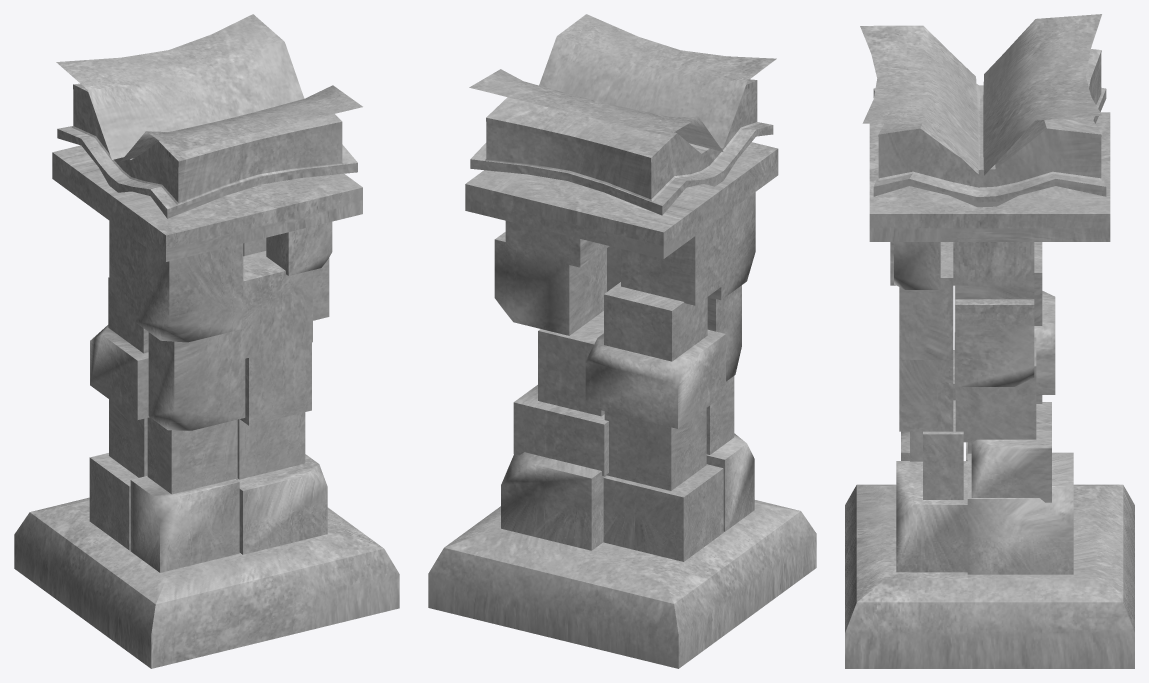
Rendered from StatueNew.fbx.
The picture shows the model from 3 angles, left to right: view 1: azimuth 30°, elevation 25°; view 2: azimuth 150°, elevation 25°; view 3: azimuth 270°, elevation 25°; orthographic projection. The views are drawn at different scales.
Parts seen in each view (by area): view 1: pCube26; view 2: pCube26; view 3: pCube26.
Boxes of the visible parts, x1=… form: pCube26: x1=14, y1=14, x2=399, y2=668; pCube26: x1=428, y1=14, x2=816, y2=668; pCube26: x1=845, y1=14, x2=1134, y2=668.
Bounding box in the file's own units: 1.72 × 3.39 × 1.65.
